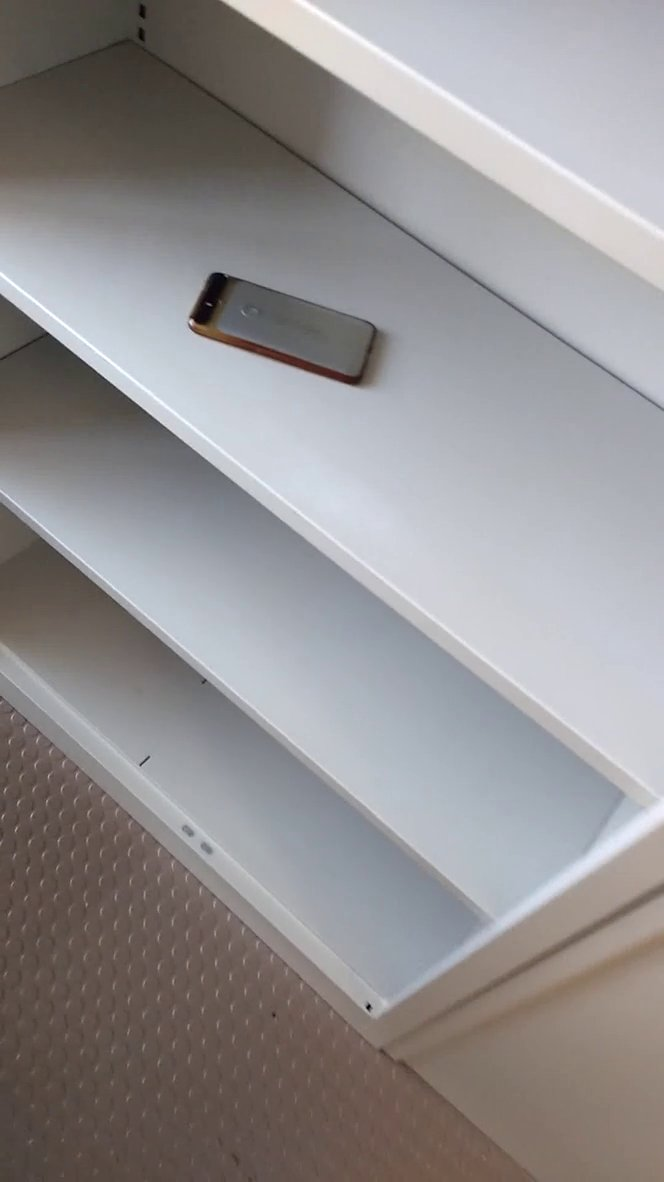phone: (169, 256, 398, 397)
